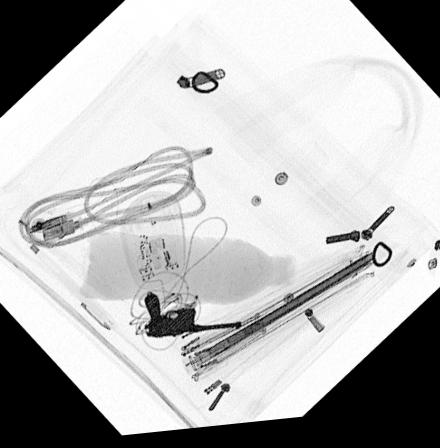Gun: (141, 295, 241, 342)
